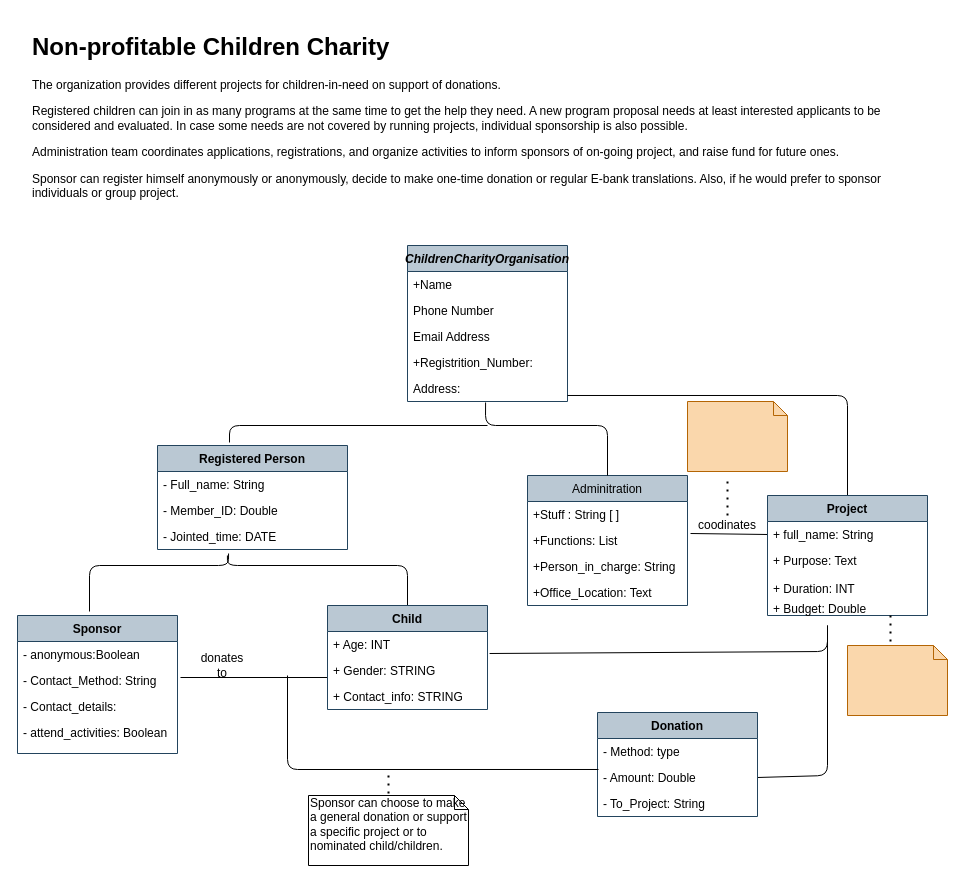
The diagram is 965 pixels wide and 883 high, and some of its shapes have lost their labels. Each missing label, with the centre of its shape:
One program proposal needs at least 5 children applicants.: point 737,436
Project duration refers to weeks and budget in local currency - CHF: point 897,680
